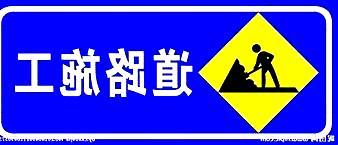sign: (1, 4, 333, 139)
